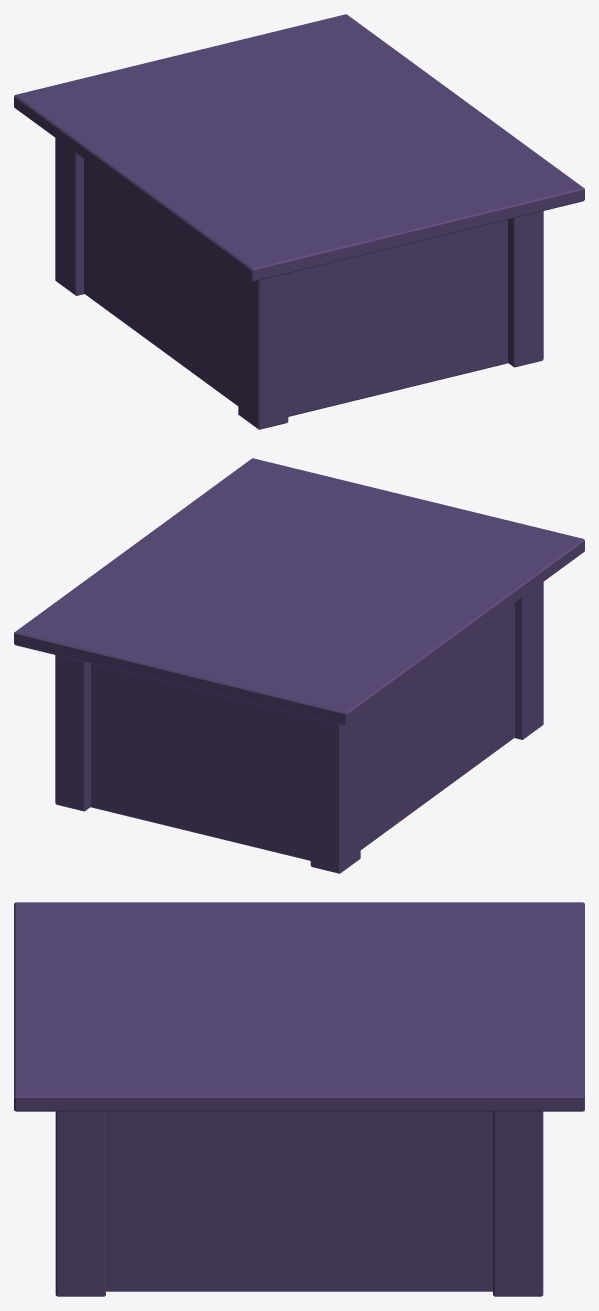
The model's file is Tv Table.fbx.
3 renders of one model, top to bottom at view 1: azimuth 30°, elevation 25°; view 2: azimuth 150°, elevation 25°; view 3: azimuth 270°, elevation 25°, orthographic. The views are drawn at different scales.
Parts seen in each view (by area): view 1: Tv Table; view 2: Tv Table; view 3: Tv Table.
Part boxes in pixels (left/top/right/bottom): Tv Table: left=14, top=14, right=584, bottom=429; Tv Table: left=14, top=458, right=584, bottom=873; Tv Table: left=14, top=902, right=584, bottom=1296.
Bounding box in the file's own units: 1.35 × 0.6963 × 1.68.
